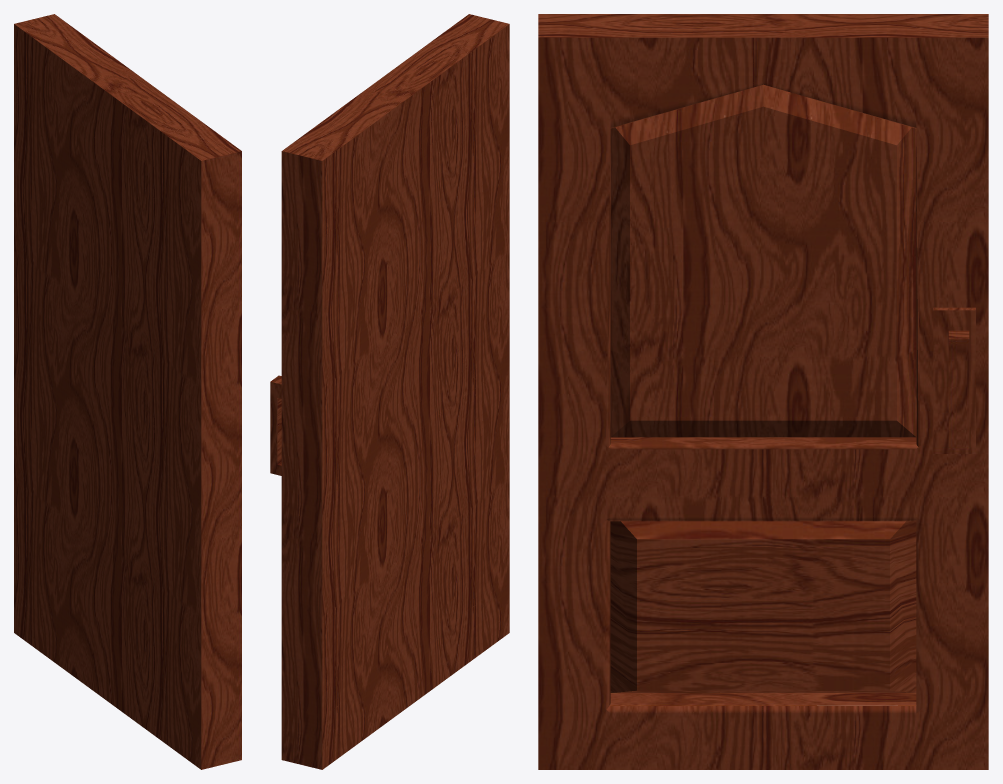
The model's file is Textured Door.fbx.
3 views of the same model, side by side, from view 1: azimuth 30°, elevation 25°; view 2: azimuth 150°, elevation 25°; view 3: azimuth 270°, elevation 25° (orthographic). The views are drawn at different scales.
Visible parts, largest first — view 1: door_opening1:polySurface1; view 2: door_opening1:polySurface1; view 3: door_opening1:polySurface1.
Part boxes in pixels (x1,y1,x2,y2): door_opening1:polySurface1: [14, 14, 241, 769]; door_opening1:polySurface1: [270, 14, 509, 769]; door_opening1:polySurface1: [538, 14, 988, 769].
Bounding box in the file's own units: 30.18 × 292 × 163.
